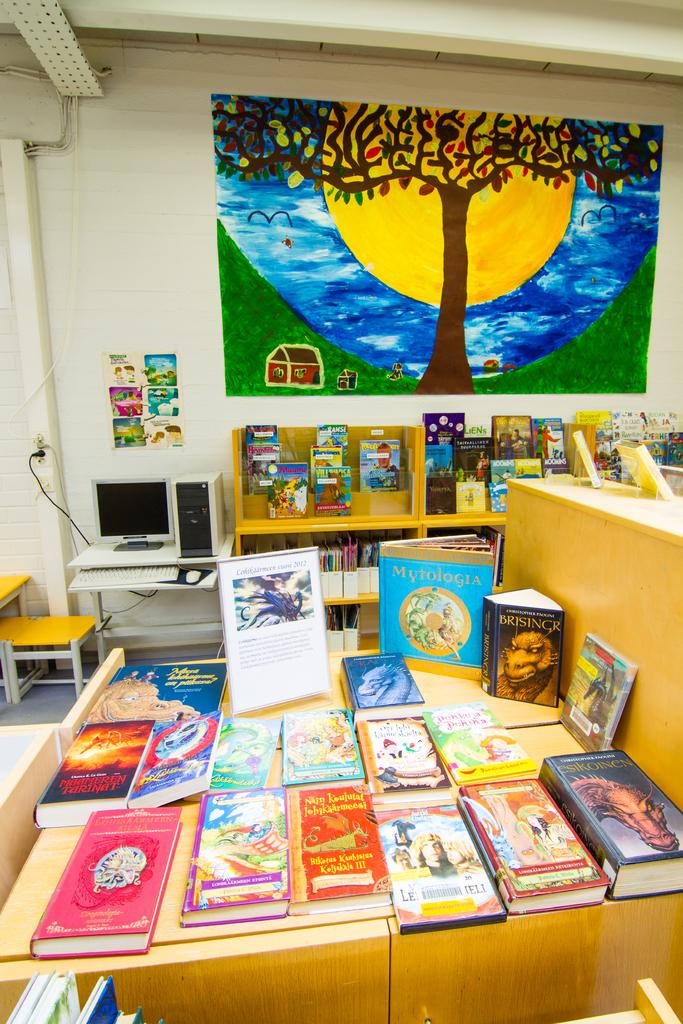Book: (29, 806, 182, 959), (538, 748, 682, 900), (455, 776, 609, 915), (216, 545, 332, 716), (373, 799, 507, 933), (378, 536, 494, 680), (180, 786, 290, 927), (286, 783, 392, 915), (33, 718, 154, 829), (480, 587, 564, 708), (421, 701, 538, 786), (125, 709, 222, 809), (559, 632, 638, 752), (357, 716, 452, 795), (280, 708, 365, 787), (207, 716, 282, 791), (339, 652, 424, 711), (358, 438, 401, 491)
Computer-monitor: (90, 475, 173, 551)
